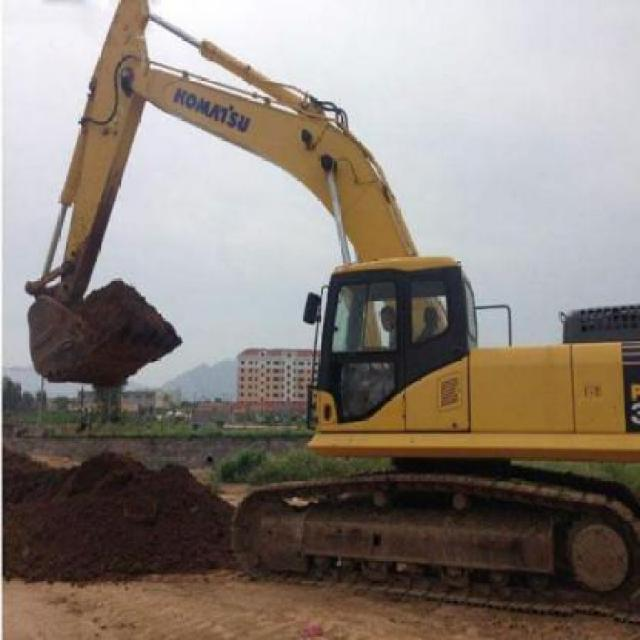Excavator: (23, 2, 639, 620)
